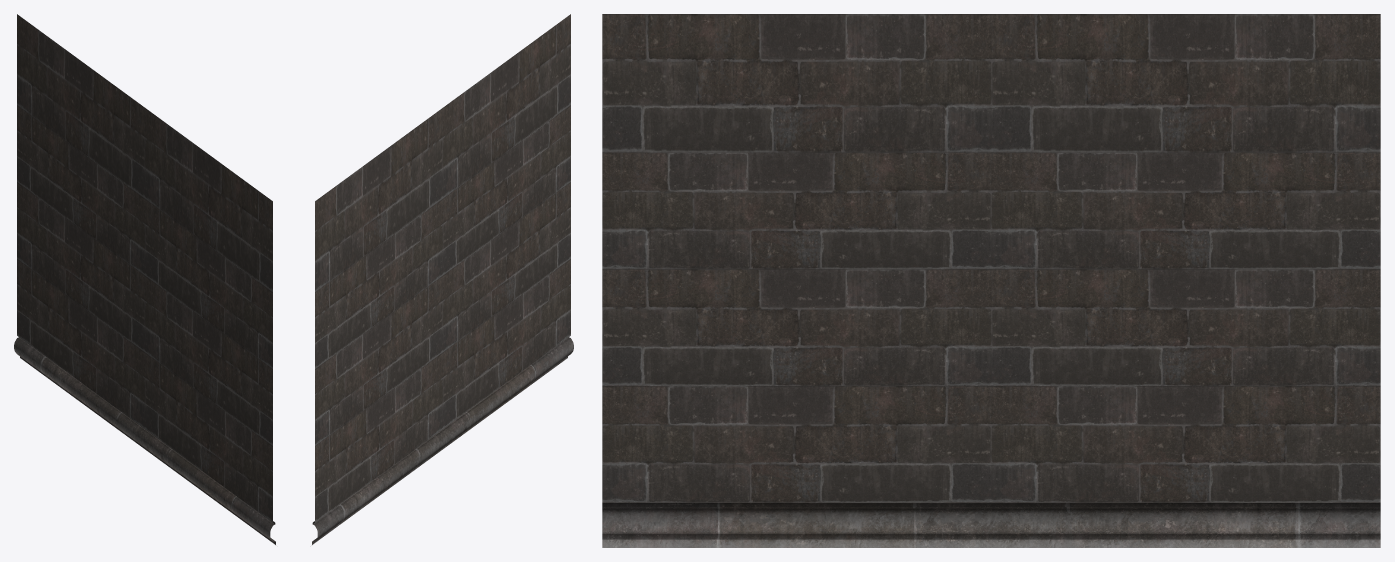
Rendered from Psychiatric_Ward_Basement_Lower_Wall_4m.glb.
3 renders of one model, left to right at view 1: azimuth 30°, elevation 25°; view 2: azimuth 150°, elevation 25°; view 3: azimuth 270°, elevation 25°, orthographic. The views are drawn at different scales.
Visible parts, largest first — view 1: Psychiatric_Ward_Basement_Lower_Wall_4m; view 2: Psychiatric_Ward_Basement_Lower_Wall_4m; view 3: Psychiatric_Ward_Basement_Lower_Wall_4m.
Boxes of the visible parts, x1=… form: Psychiatric_Ward_Basement_Lower_Wall_4m: x1=14, y1=14, x2=275, y2=544; Psychiatric_Ward_Basement_Lower_Wall_4m: x1=312, y1=14, x2=573, y2=544; Psychiatric_Ward_Basement_Lower_Wall_4m: x1=602, y1=14, x2=1380, y2=547.
Bounding box in the file's own units: 0.0873 × 3 × 4.
Materials: 1 (1 with a texture image).
